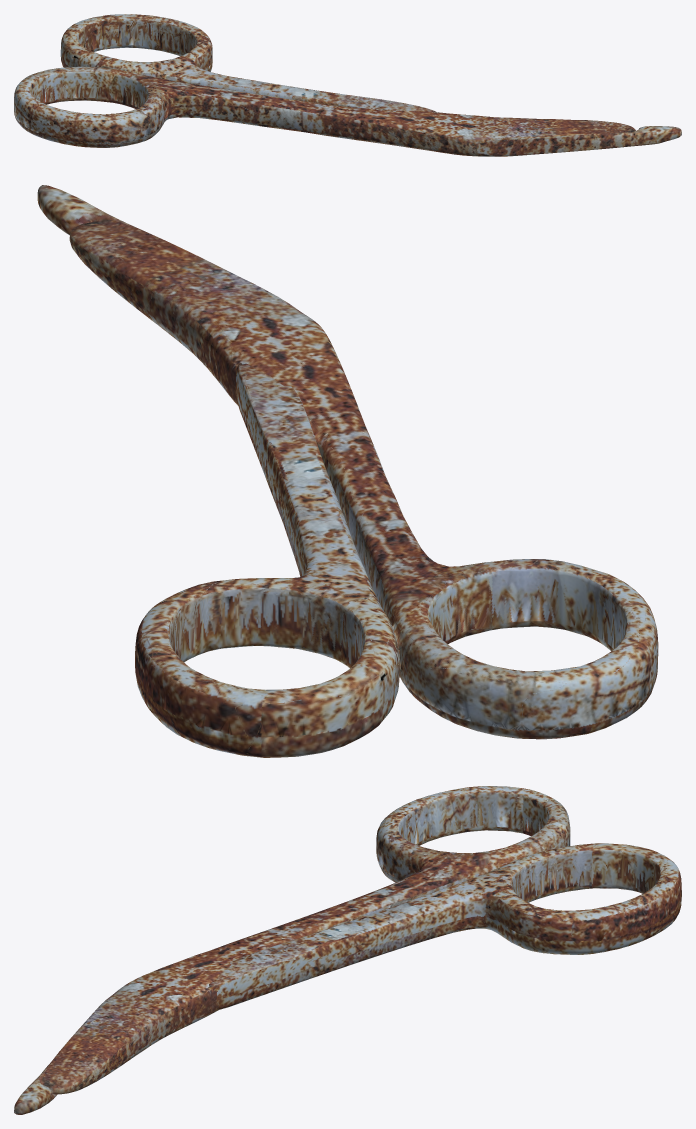
File: Scissors.fbx
3 renders of one model, top to bottom at view 1: azimuth 30°, elevation 25°; view 2: azimuth 150°, elevation 25°; view 3: azimuth 270°, elevation 25°, orthographic. The views are drawn at different scales.
Parts seen in each view (by area): view 1: Scissors; view 2: Scissors; view 3: Scissors.
Part boxes in pixels (x1,y1,x2,y2): Scissors: [14, 14, 681, 156]; Scissors: [37, 185, 658, 757]; Scissors: [14, 786, 681, 1114].
Bounding box in the file's own units: 20.96 × 1.3 × 19.19.
